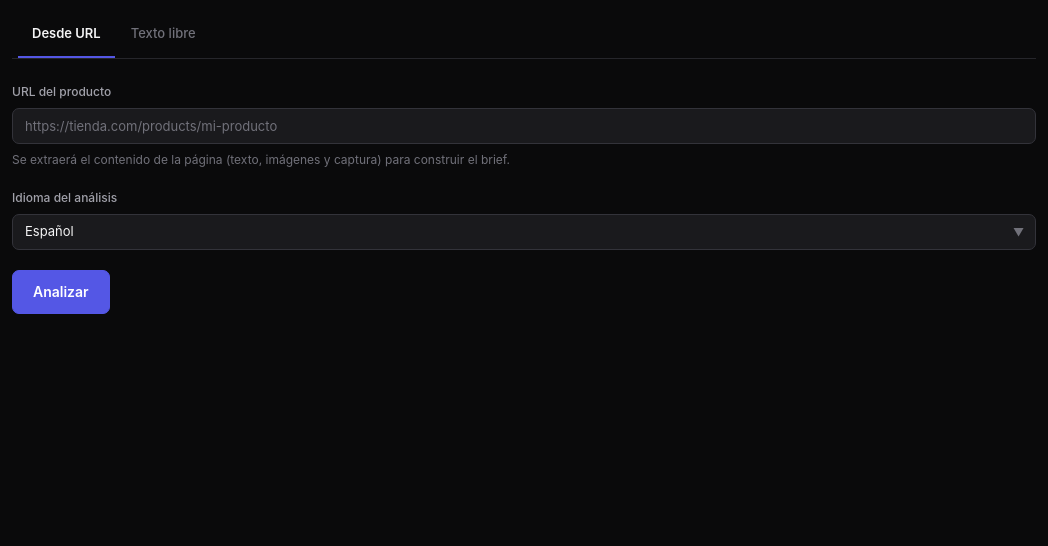
IntakeTabs › al cambiar a «Texto libre» se muestra el form de T1.6 y desaparece el de URL
Click the tab "Texto libre": coordinates (163, 35) [117,12,210,58]
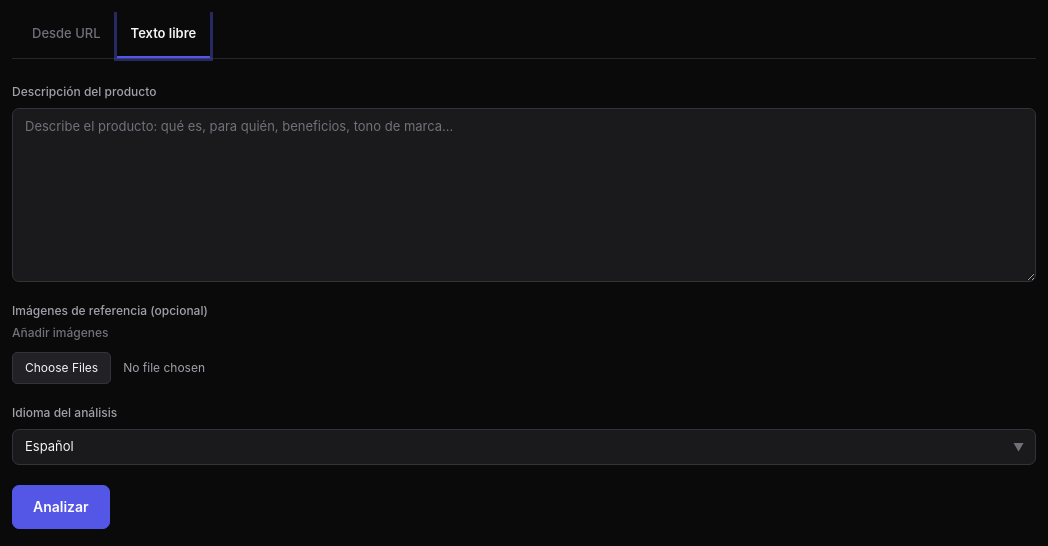
Now the text box labelled "Descripción del producto" is shown, box [12,108,1036,282]
Now the label "URL del producto" is gone
